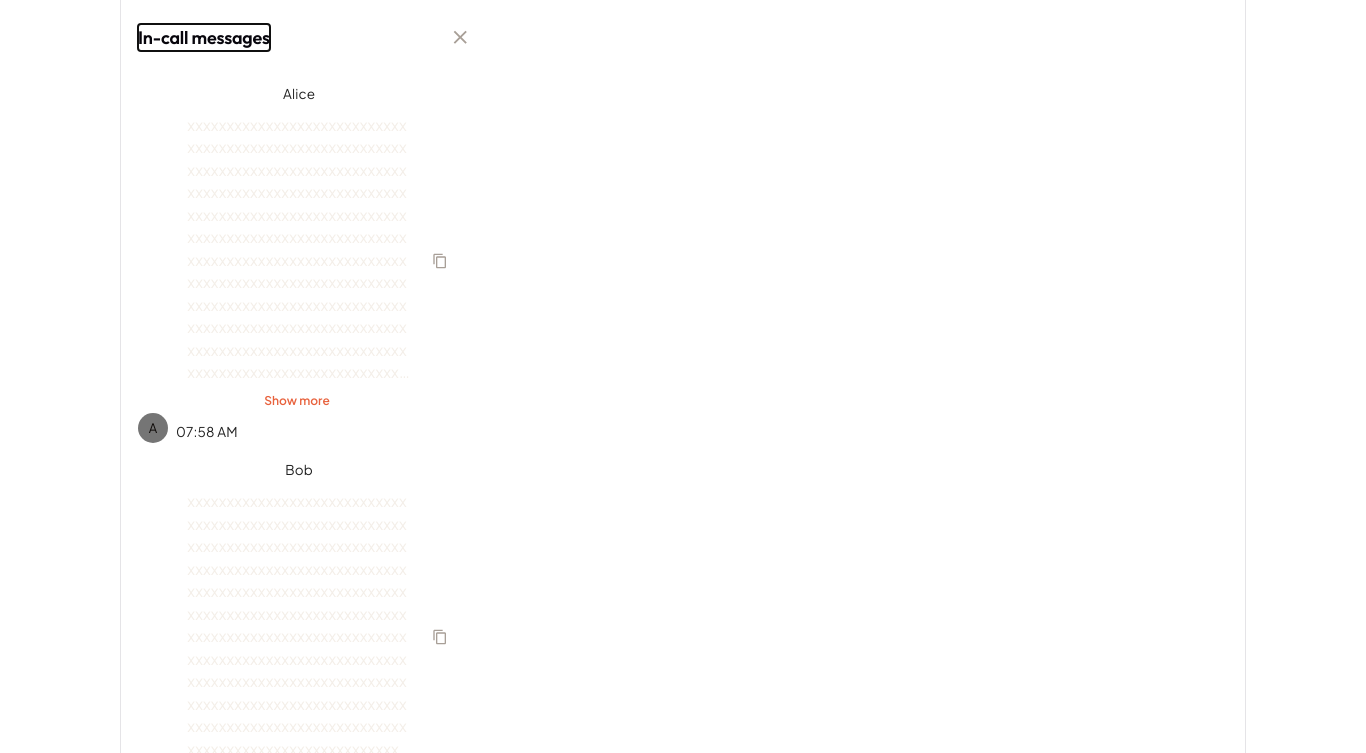
Test: ChatPanel › long-message rendering › keeps expansion state independent per message
Click the button "Show more": (297, 401) [264,392,330,409]
(page scrolled)
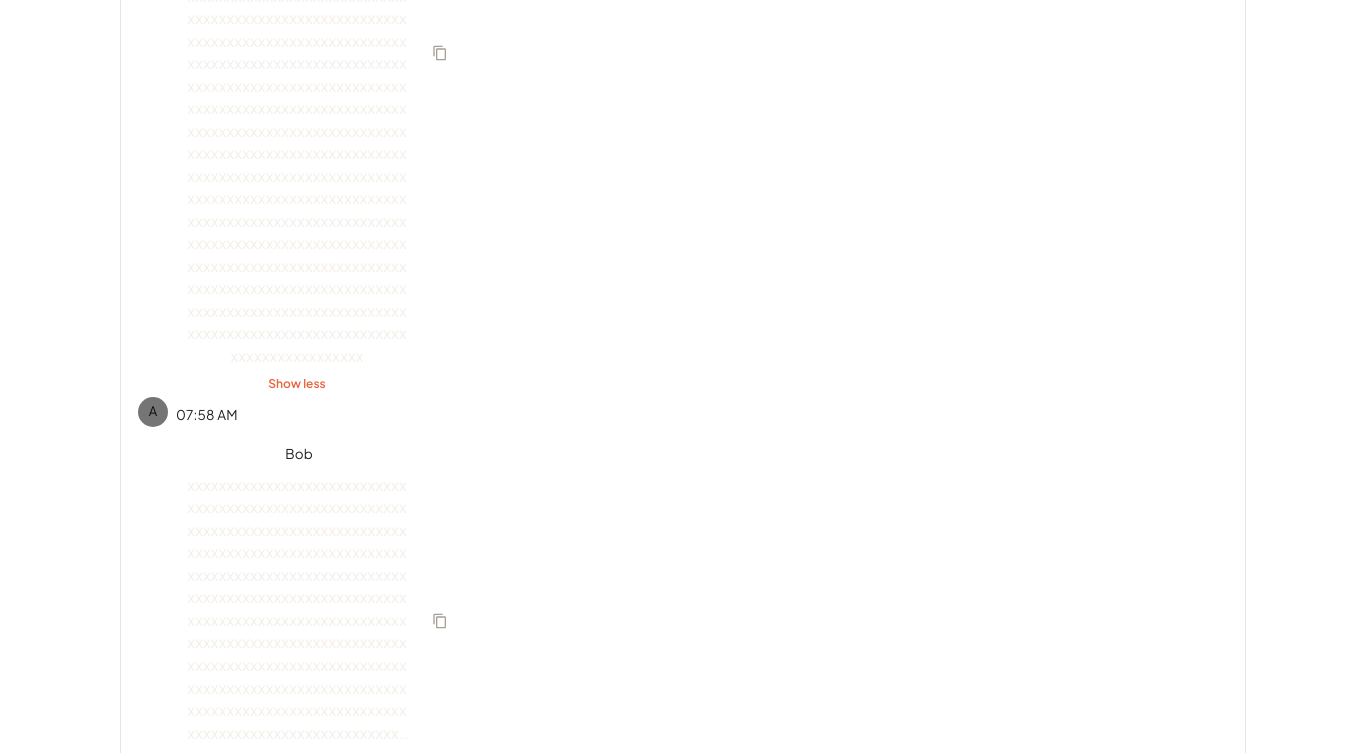
Now the button "Show less" is shown, box [268,376,326,393]
